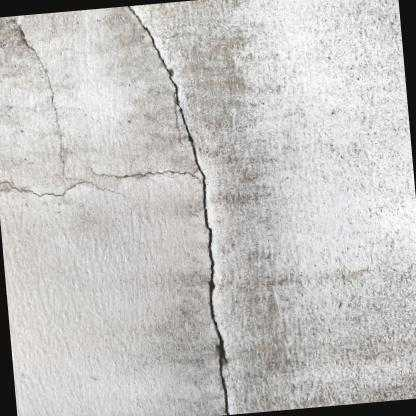crack: (126, 6, 232, 415), (15, 23, 65, 173), (0, 177, 117, 200), (91, 166, 199, 182)
